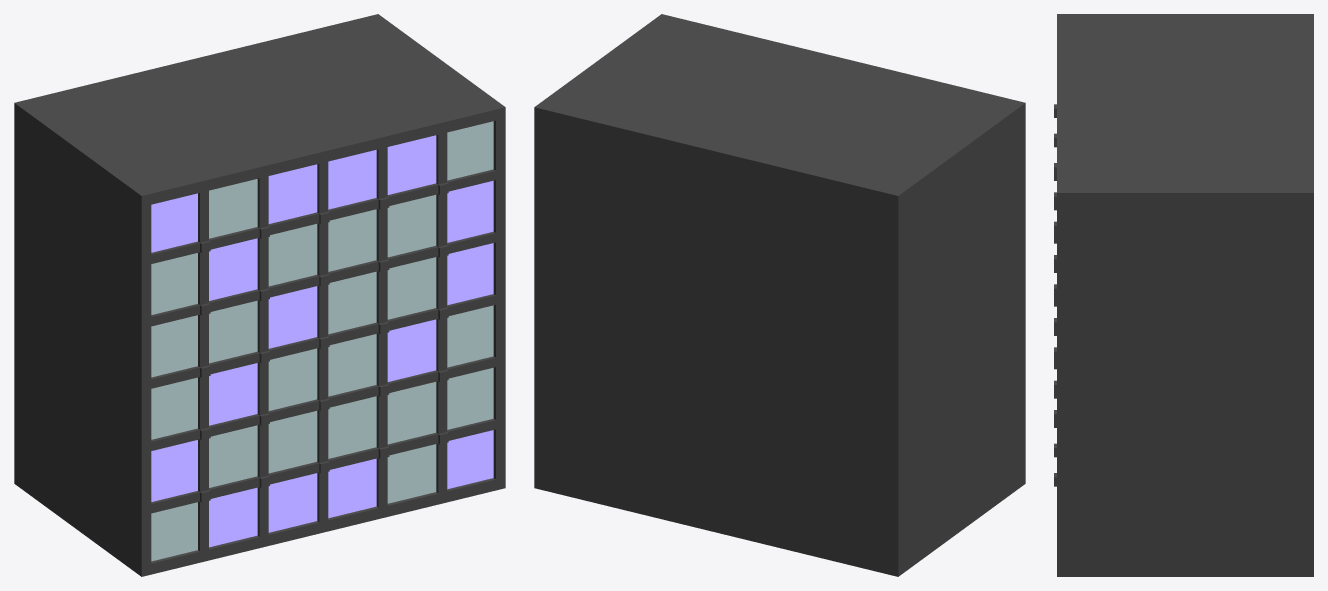
File: building5.fbx
3 renders of one model, left to right at view 1: azimuth 30°, elevation 25°; view 2: azimuth 150°, elevation 25°; view 3: azimuth 270°, elevation 25°, orthographic.
Parts seen in each view (by area): view 1: Cube.005; view 2: Cube.005; view 3: Cube.005.
Boxes of the visible parts, bbox=[...] form: Cube.005: bbox=[14, 14, 505, 576]; Cube.005: bbox=[534, 14, 1025, 576]; Cube.005: bbox=[1054, 14, 1313, 576].
Bounding box in the file's own units: 3.09 × 3.09 × 1.89.
